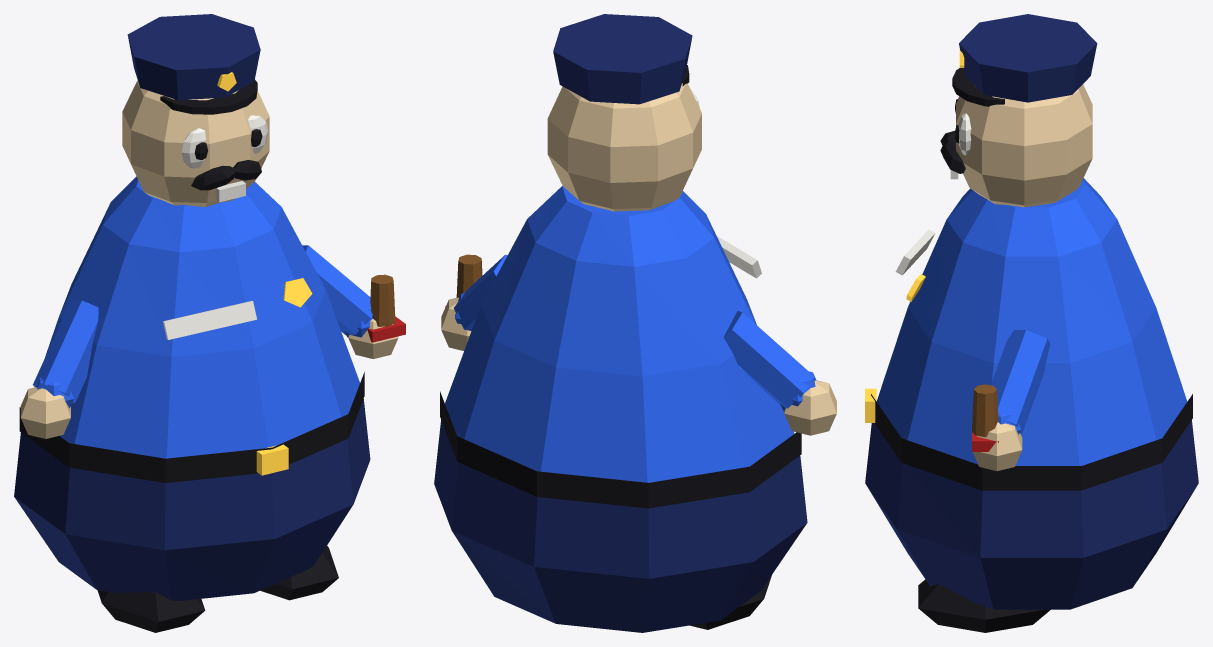
The model's file is npc_oficial_sellito.glb.
The picture shows the model from 3 angles, left to right: view 1: azimuth 30°, elevation 25°; view 2: azimuth 150°, elevation 25°; view 3: azimuth 270°, elevation 25°; orthographic projection. The views are drawn at different scales.
Visible parts, largest first — view 1: body_shirt, body_pants, head_skin_staff, cap_cap, body_black, arms_shirt, legs_black, arms_skin_staff, plate_white, face_black, cap_black, props_stamp_wood (+3 smaller); view 2: body_shirt, body_pants, head_skin_staff, cap_cap, body_black, arms_shirt, arms_skin_staff, props_stamp_wood, legs_black, plate_white; view 3: body_shirt, body_pants, head_skin_staff, cap_cap, body_black, arms_shirt, legs_black, arms_skin_staff, props_stamp_wood, cap_black, face_black, plate_white.
Part boxes in pixels (x1,y1,x2,y2): body_shirt: [45, 176, 359, 458]; body_pants: [14, 399, 370, 600]; head_skin_staff: [122, 80, 269, 207]; cap_cap: [127, 14, 260, 100]; body_black: [19, 372, 364, 482]; arms_shirt: [33, 245, 372, 408]; legs_black: [97, 546, 338, 632]; arms_skin_staff: [20, 319, 398, 438]; plate_white: [163, 301, 256, 339]; face_black: [191, 129, 262, 190]; cap_black: [160, 79, 257, 114]; props_stamp_wood: [370, 274, 395, 326]; body_shirt: [445, 186, 794, 482]; body_pants: [434, 420, 807, 632]; head_skin_staff: [547, 83, 701, 211]; cap_cap: [553, 14, 692, 104]; body_black: [440, 391, 801, 508]; arms_shirt: [454, 254, 815, 410]; arms_skin_staff: [441, 297, 836, 435]; props_stamp_wood: [456, 254, 482, 297]; legs_black: [689, 575, 771, 629]; plate_white: [717, 236, 761, 278]; body_shirt: [876, 178, 1187, 465]; body_pants: [865, 420, 1198, 609]; head_skin_staff: [956, 84, 1092, 207]; cap_cap: [959, 14, 1097, 102]; body_black: [871, 394, 1192, 490]; arms_shirt: [991, 330, 1050, 434]; legs_black: [918, 579, 1050, 632]; arms_skin_staff: [973, 422, 1022, 471]; props_stamp_wood: [972, 384, 998, 437]; cap_black: [952, 68, 1004, 106]; face_black: [940, 99, 965, 173]; plate_white: [895, 229, 935, 275].
Size of the model in its own units: 1.13 by 1.56 by 0.86.
